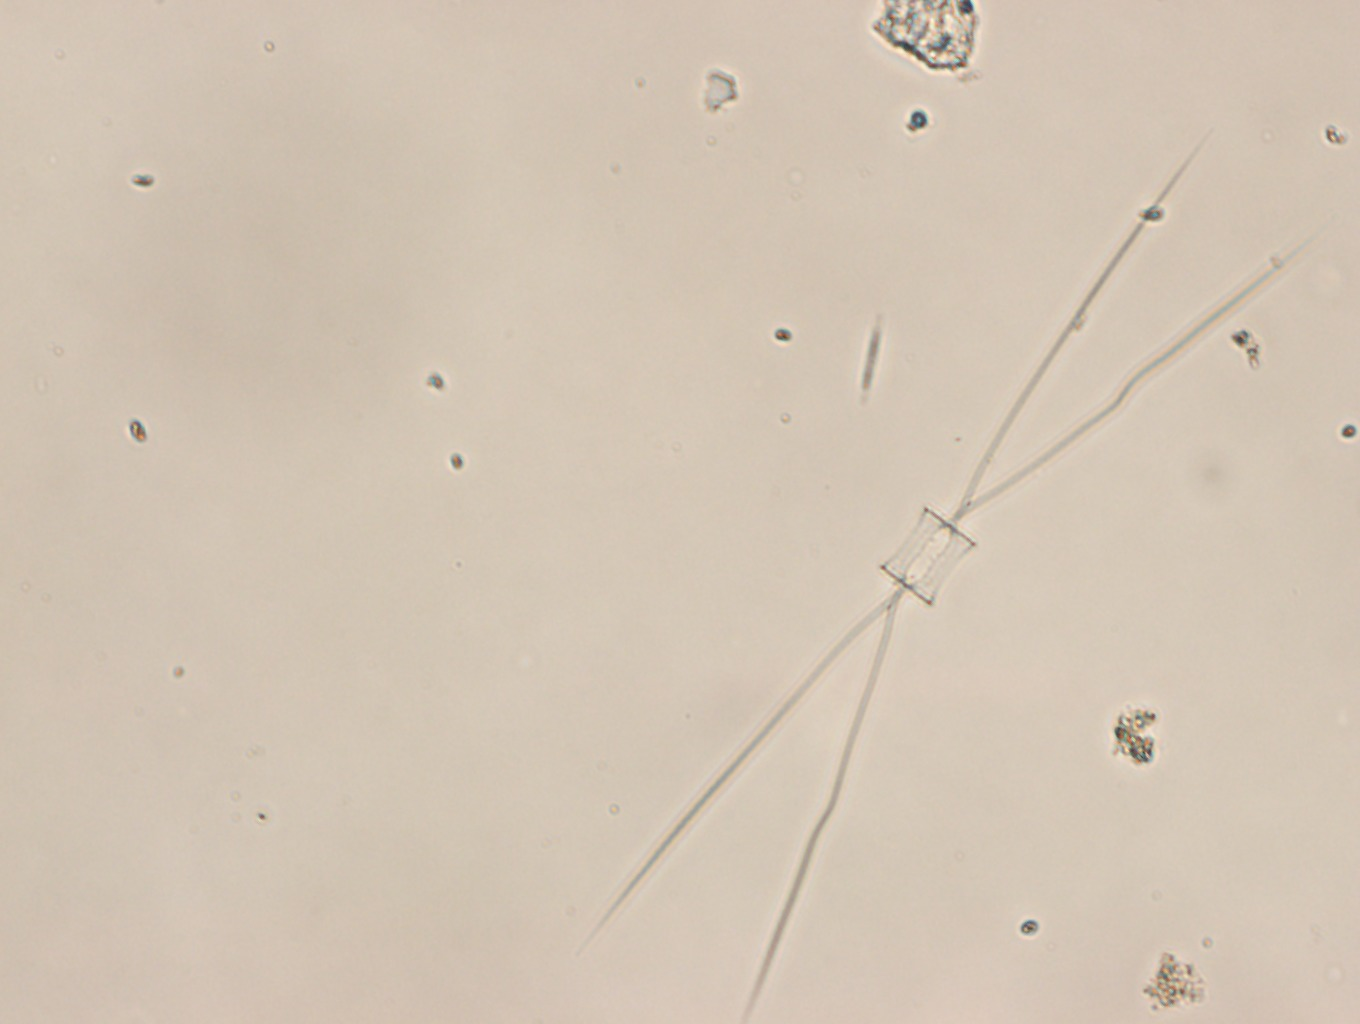chaetoceros: (576, 129, 1322, 1024)
